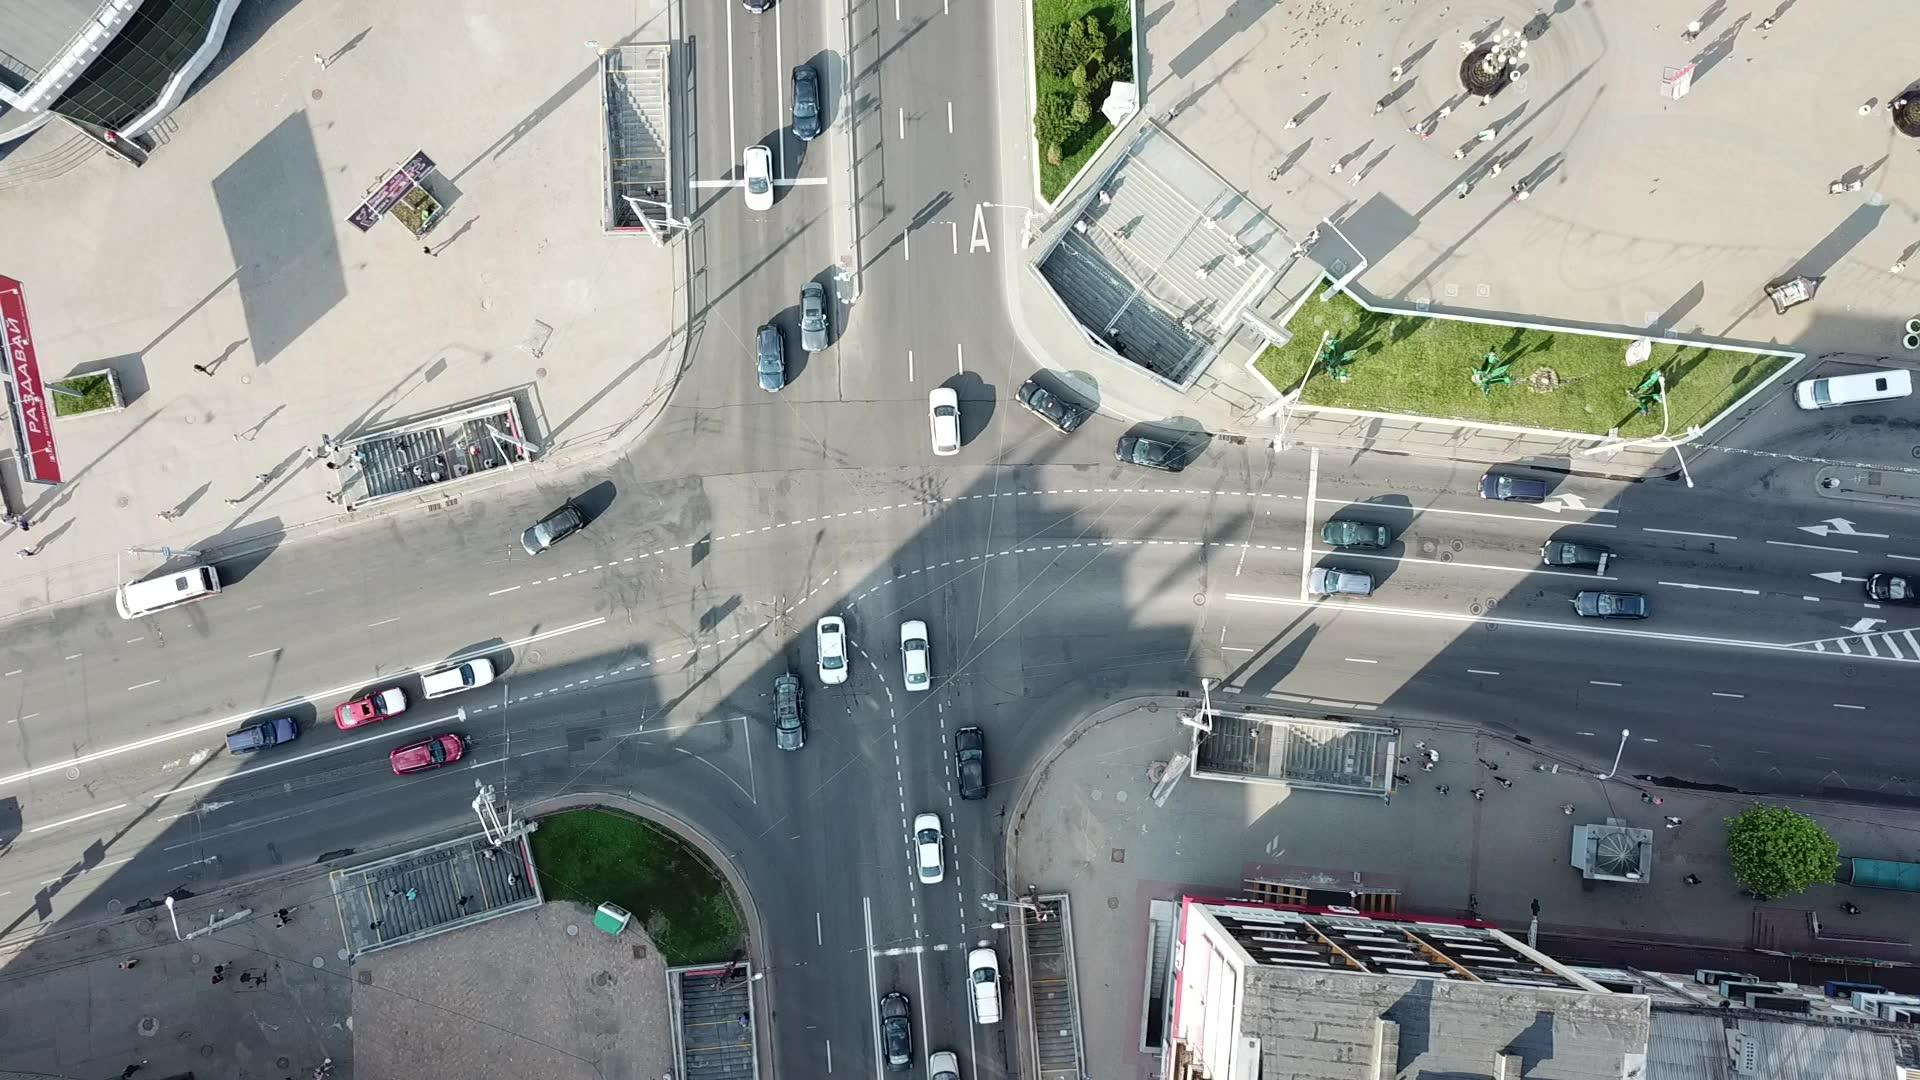car: (1015, 378, 1081, 435), (520, 502, 584, 556), (334, 684, 406, 731), (421, 657, 496, 698), (390, 733, 463, 775), (1114, 434, 1189, 473), (880, 990, 916, 1069), (967, 947, 1004, 1023), (225, 716, 298, 754), (953, 727, 989, 800), (790, 63, 823, 141), (771, 673, 804, 750), (1320, 518, 1393, 553), (927, 386, 961, 456), (1539, 539, 1614, 571), (756, 324, 790, 393), (913, 814, 945, 884), (899, 617, 931, 690), (1576, 589, 1650, 620), (742, 146, 777, 211), (1305, 566, 1375, 597), (816, 616, 847, 683), (799, 282, 828, 352), (1476, 473, 1545, 502)
